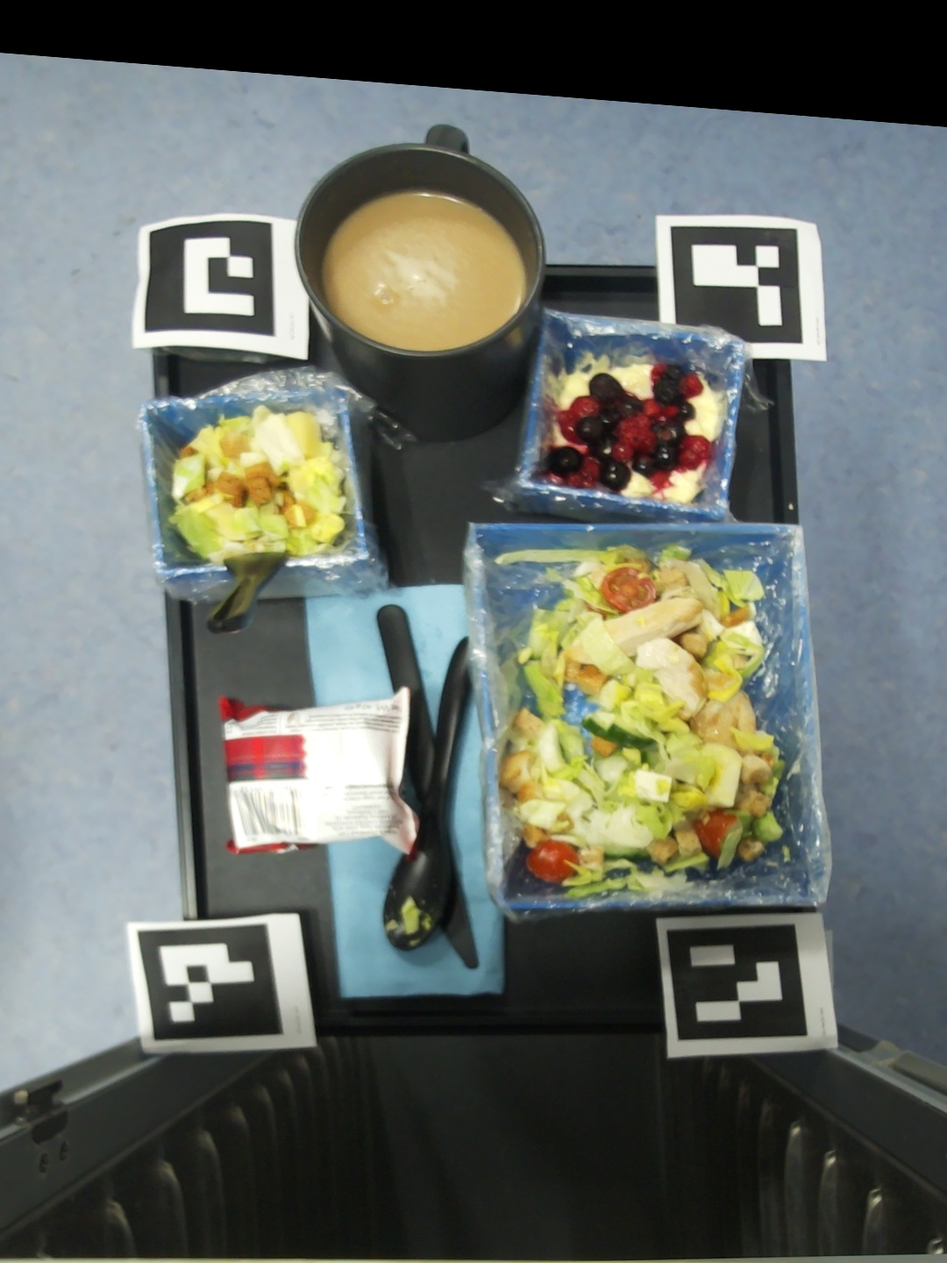coffee_cup: (294, 124, 545, 441)
cookie: (216, 686, 420, 860)
salad_main: (492, 542, 785, 897), (781, 845, 791, 862), (766, 862, 779, 868)
side_salad: (167, 404, 353, 563)
vanilla_pudding_with_fruits: (546, 355, 728, 504)
